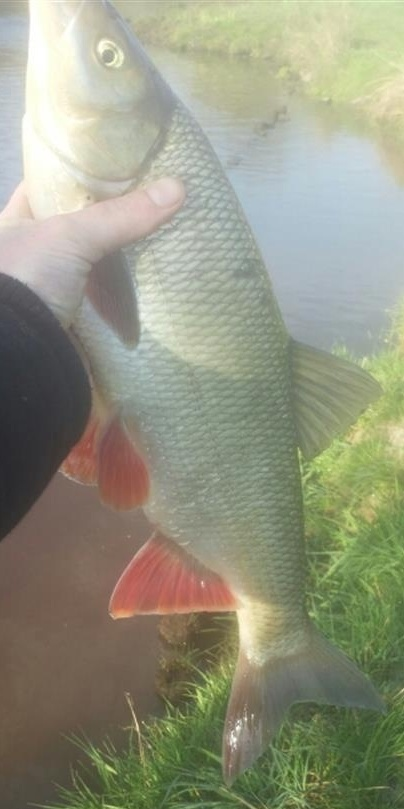Leuciscus idus: (20, 1, 384, 789)
